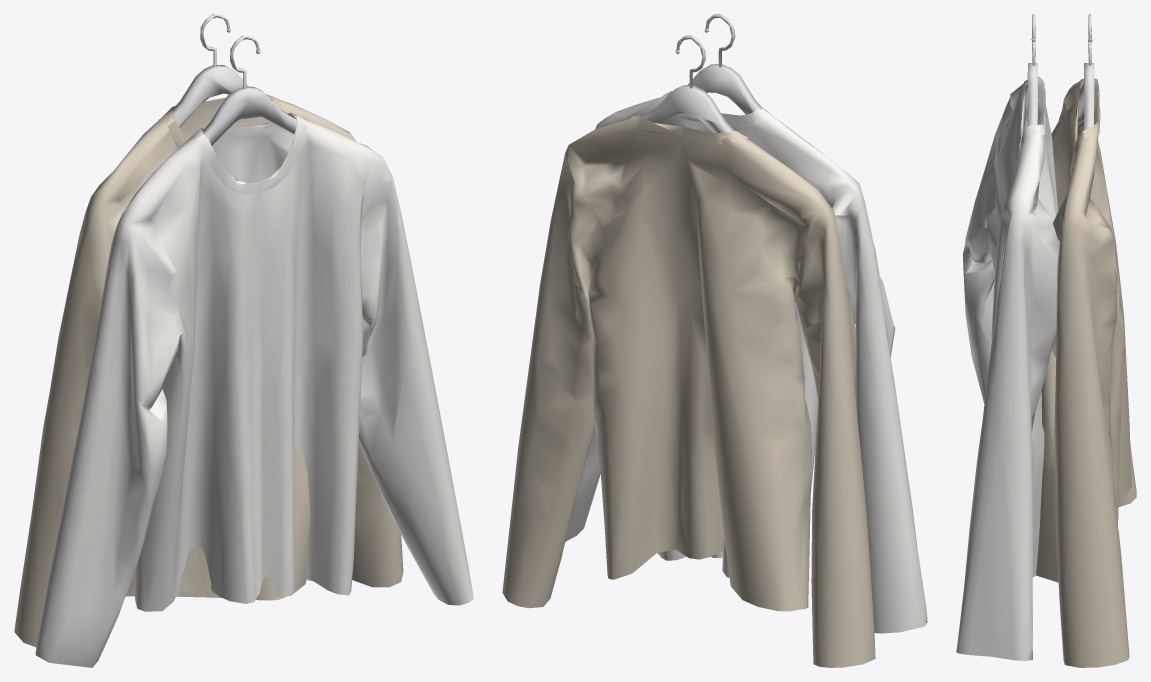
File: shirts_light.glb
3 views of the same model, side by side, from view 1: azimuth 30°, elevation 25°; view 2: azimuth 150°, elevation 25°; view 3: azimuth 270°, elevation 25° (orthographic). The views are drawn at different scales.
Parts seen in each view (by area): view 1: shirts_light; view 2: shirts_light; view 3: shirts_light.
Boxes of the visible parts, left/top/right/bottom form: shirts_light: left=14, top=14, right=473, bottom=667; shirts_light: left=502, top=14, right=927, bottom=667; shirts_light: left=956, top=14, right=1136, bottom=667.
Size of the model in its own units: 0.5783 by 0.8 by 0.2287.
